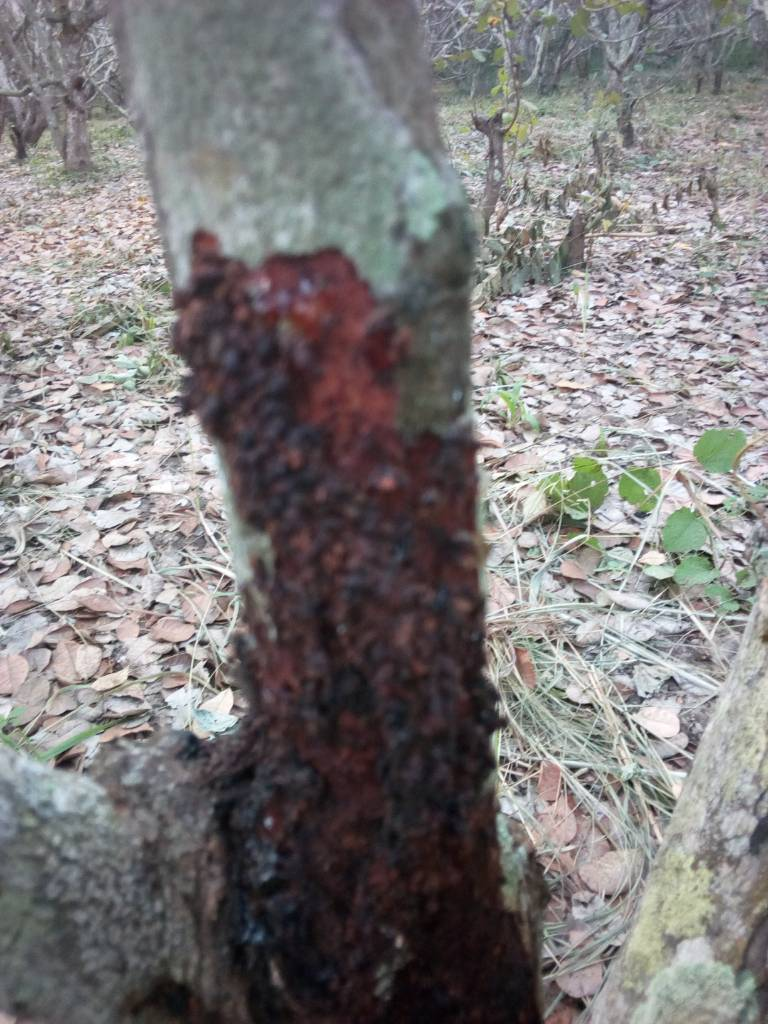ploceadorus ferrugineus: (130, 203, 597, 1011)
